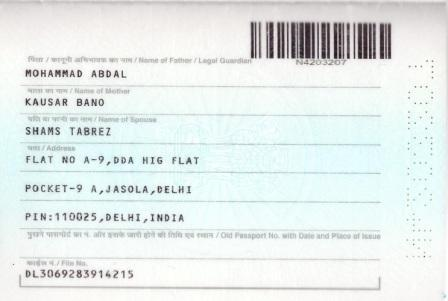File_no: (20, 268, 134, 280)
address: (15, 149, 379, 227)
father_name: (16, 66, 141, 81)
mother_name: (17, 95, 133, 109)
passport_no: (294, 57, 350, 68)
spouse_name: (20, 123, 113, 140)
